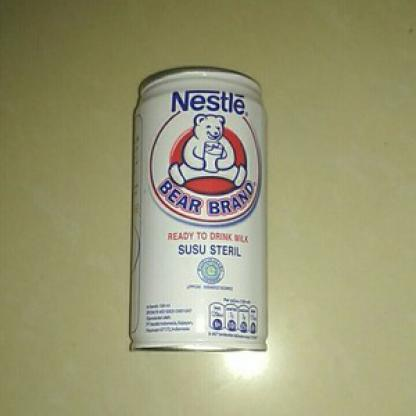bottle: (122, 60, 276, 360)
